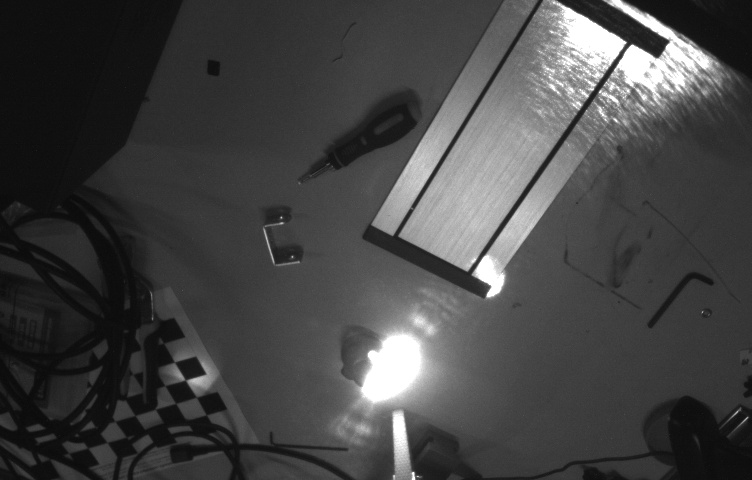Object rubber duck - Material rubber -Color blue - Pdfname BWuUnwTLudUE: (369, 348, 390, 394)
